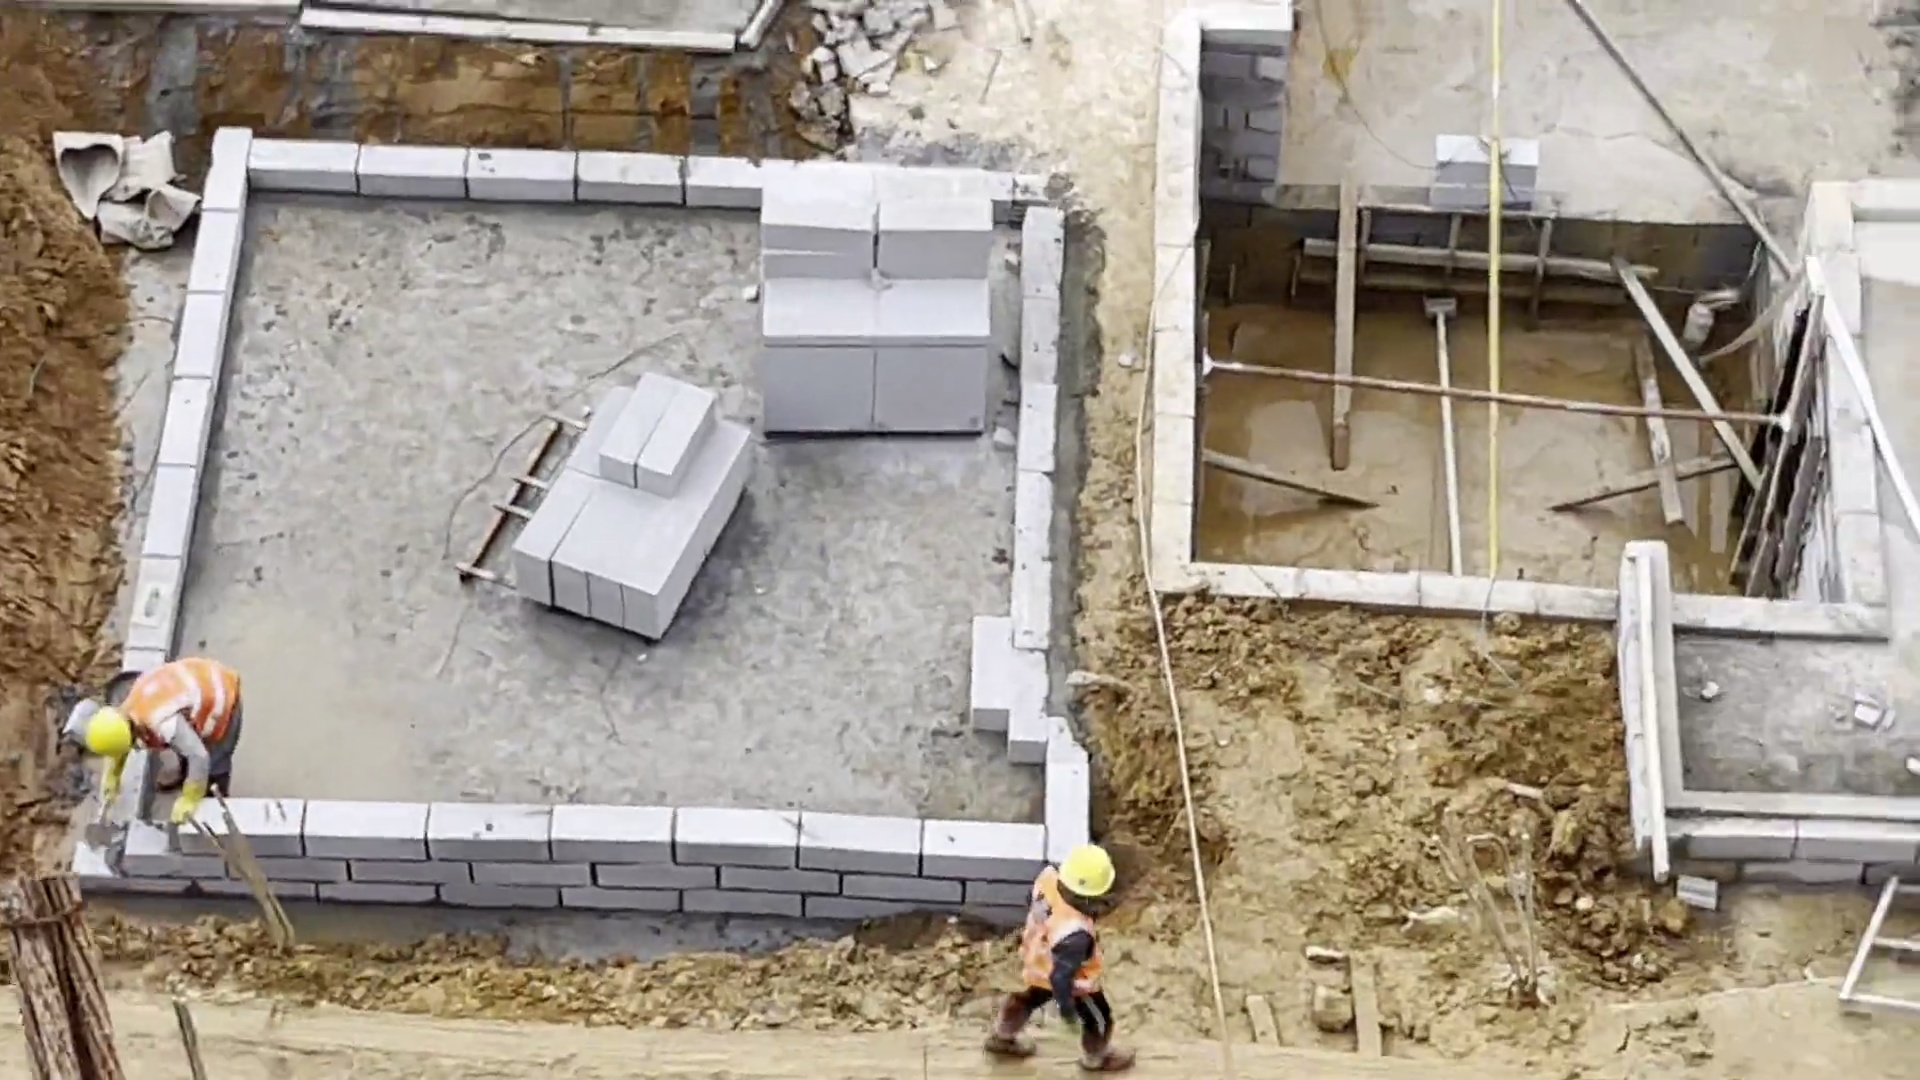brick: (509, 366, 749, 648), (751, 170, 989, 434)
helmet: (1058, 843, 1117, 899), (88, 705, 133, 758)
person: (991, 839, 1137, 1072), (86, 659, 244, 832)
vest: (1009, 881, 1106, 1005), (131, 657, 246, 746)
